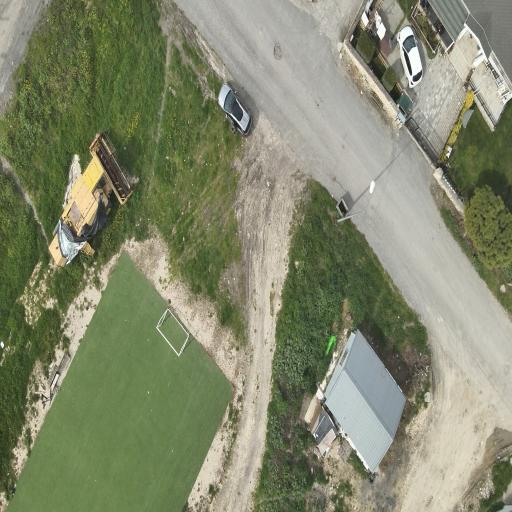car: (217, 82, 251, 136), (396, 25, 422, 86)
harvester: (48, 132, 133, 265)
person: (231, 123, 237, 134)
